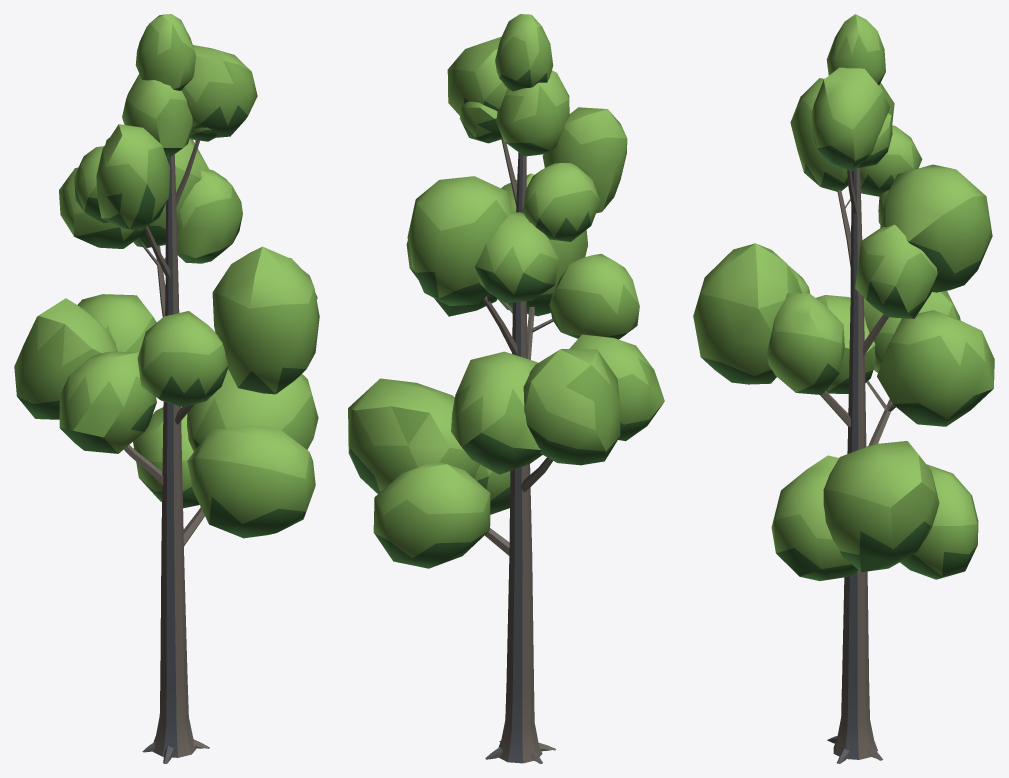
File: SC_Nat_Ginkgo_Green.gltf
3 views of the same model, side by side, from view 1: azimuth 30°, elevation 25°; view 2: azimuth 150°, elevation 25°; view 3: azimuth 270°, elevation 25° (orthographic).
Visible parts, largest first — view 1: SC_Nat_Ginkgo_Green; view 2: SC_Nat_Ginkgo_Green; view 3: SC_Nat_Ginkgo_Green.
Part boxes in pixels (left/top/right/bottom): SC_Nat_Ginkgo_Green: left=14, top=14, right=319, bottom=763; SC_Nat_Ginkgo_Green: left=348, top=14, right=664, bottom=763; SC_Nat_Ginkgo_Green: left=693, top=14, right=994, bottom=763.
Size of the model in its own units: 4.13 by 10.58 by 3.96.
1 material, 1 textured.
